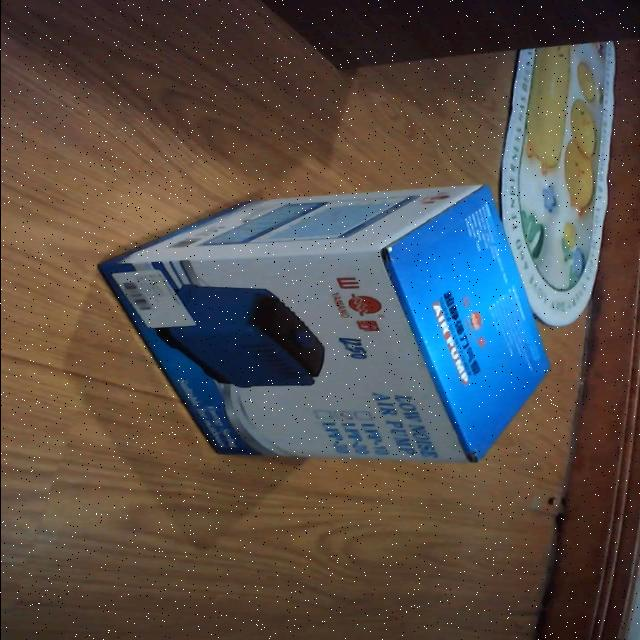YAMANO_LPP_20: (91, 183, 567, 469)
